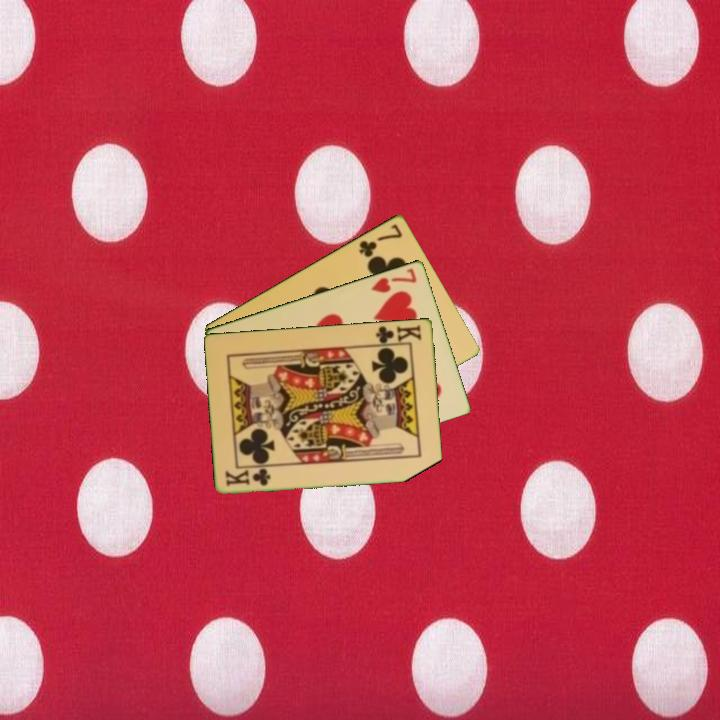7c: (355, 220, 405, 260)
7h: (367, 264, 420, 295)
Kc: (371, 321, 424, 348), (222, 465, 274, 489)
